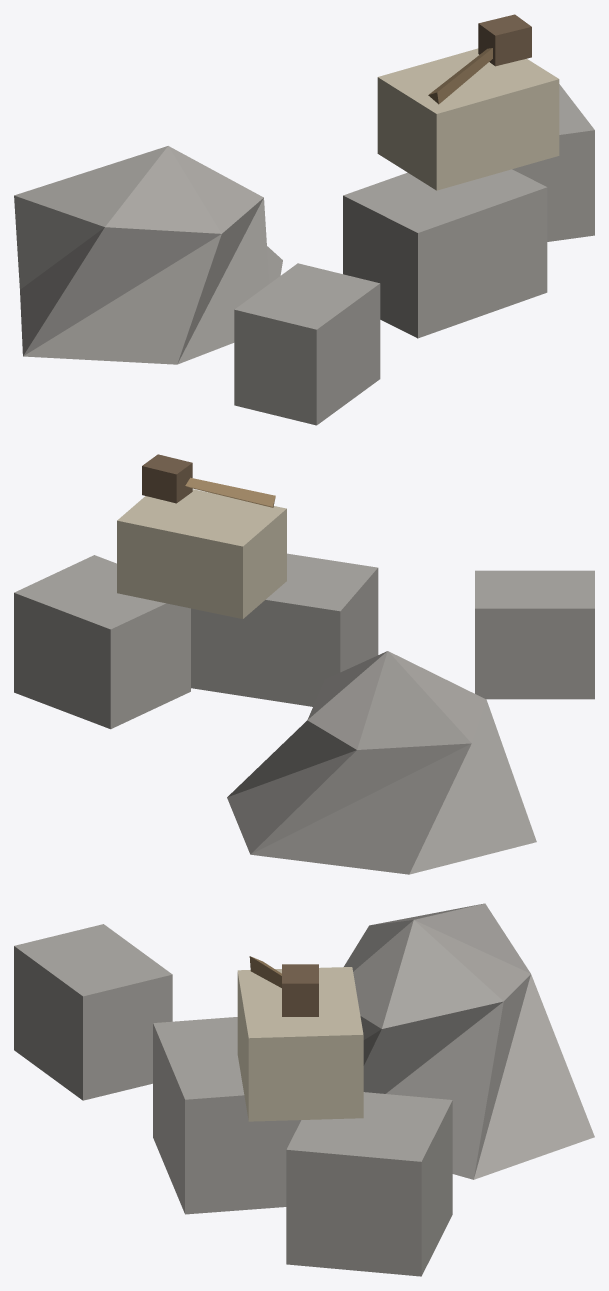
Rendered from stone.glb.
3 views of the same model, one above another, from view 1: azimuth 30°, elevation 25°; view 2: azimuth 150°, elevation 25°; view 3: azimuth 270°, elevation 25° (orthographic). The views are drawn at different scales.
Parts seen in each view (by area): view 1: LOD0; view 2: LOD0; view 3: LOD0.
Boxes of the visible parts, x1,y1,x2,y2 form: LOD0: (14,14,594,425); LOD0: (14,454,594,874); LOD0: (14,903,594,1276).
Size of what is drawn, in the model's own units: 0.711 by 0.324 by 0.6058.
